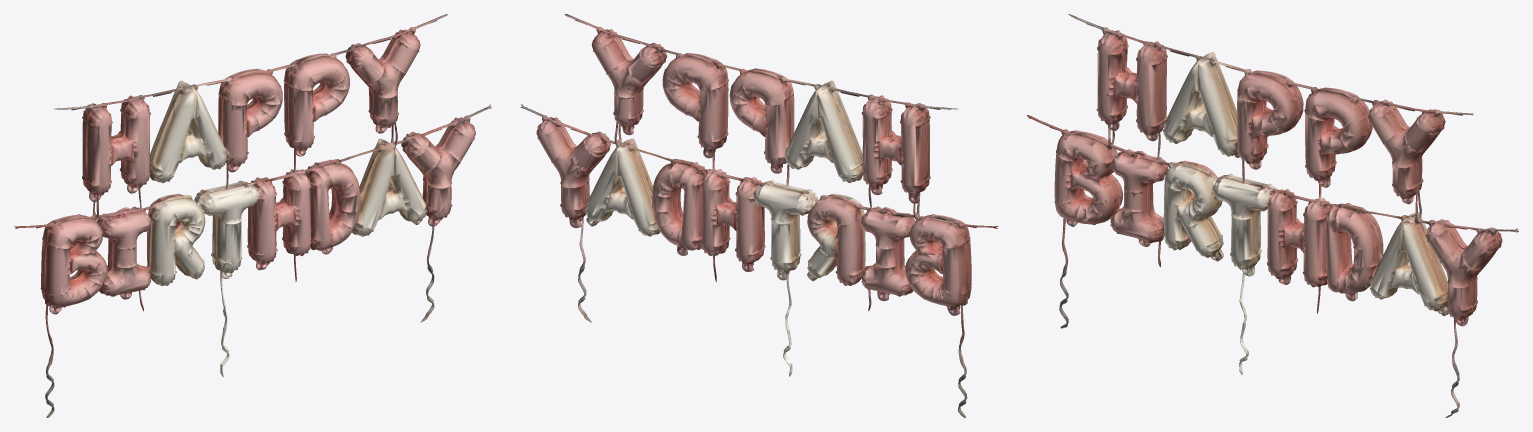
The model's file is happybirthday.glb.
3 renders of one model, left to right at view 1: azimuth 30°, elevation 25°; view 2: azimuth 150°, elevation 25°; view 3: azimuth 330°, elevation 25°, orthographic. The views are drawn at different scales.
Visible parts, largest first — view 1: node_0; view 2: node_0; view 3: node_0.
Part boxes in pixels (x1=…): node_0: x1=14, y1=14, x2=491, y2=417; node_0: x1=520, y1=14, x2=998, y2=417; node_0: x1=1027, y1=14, x2=1518, y2=417.
Size of the model in its own units: 1.13 by 0.7025 by 0.0733.
Materials: 1 (1 with a texture image).
